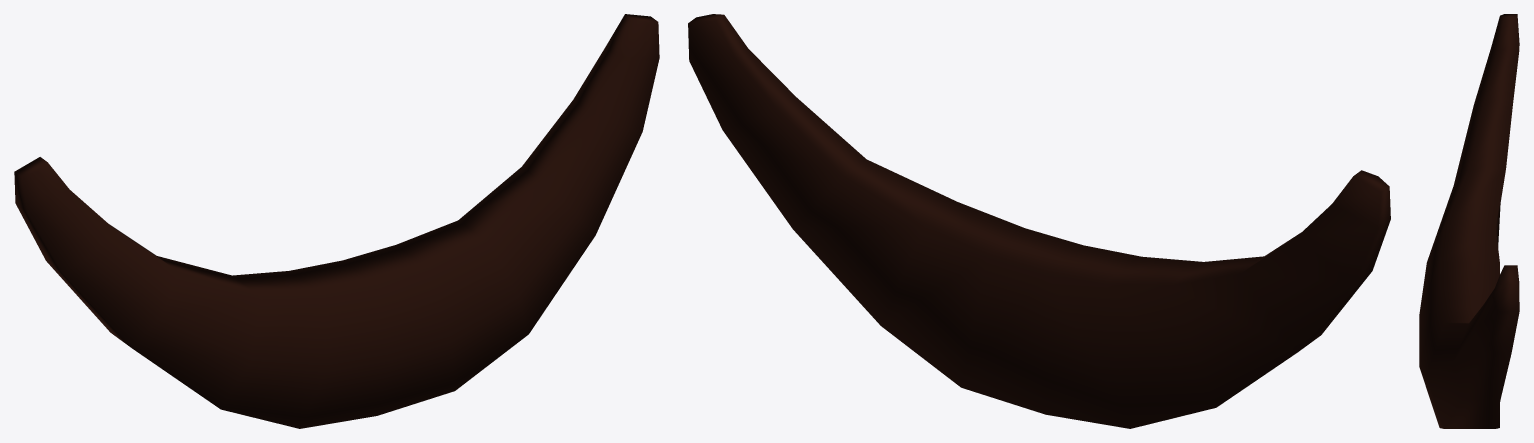
Rendered from Mouth_Smile.glb.
3 renders of one model, left to right at view 1: azimuth 30°, elevation 25°; view 2: azimuth 150°, elevation 25°; view 3: azimuth 270°, elevation 25°, orthographic. The views are drawn at different scales.
Visible parts, largest first — view 1: Mouth_Smile; view 2: Mouth_Smile; view 3: Mouth_Smile.
Boxes of the visible parts, x1,y1,x2,y2 form: Mouth_Smile: [14, 14, 659, 428]; Mouth_Smile: [688, 14, 1390, 428]; Mouth_Smile: [1419, 14, 1519, 428].
Size of the model in its own units: 0.1135 by 0.0508 by 0.0178.
Materials: 1 (1 with a texture image).
